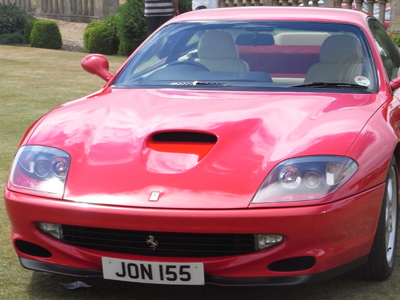licencePlate: (103, 256, 210, 286)
